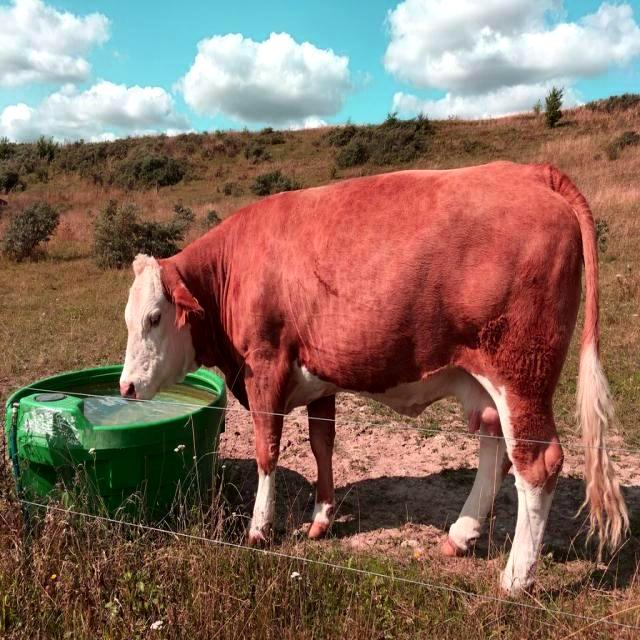COW: (120, 162, 628, 593)
